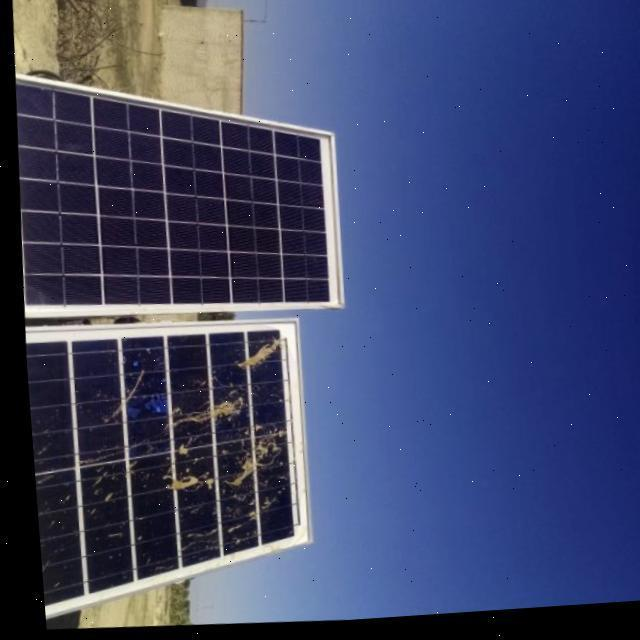Normal Solar Panel: (4, 52, 348, 328)
